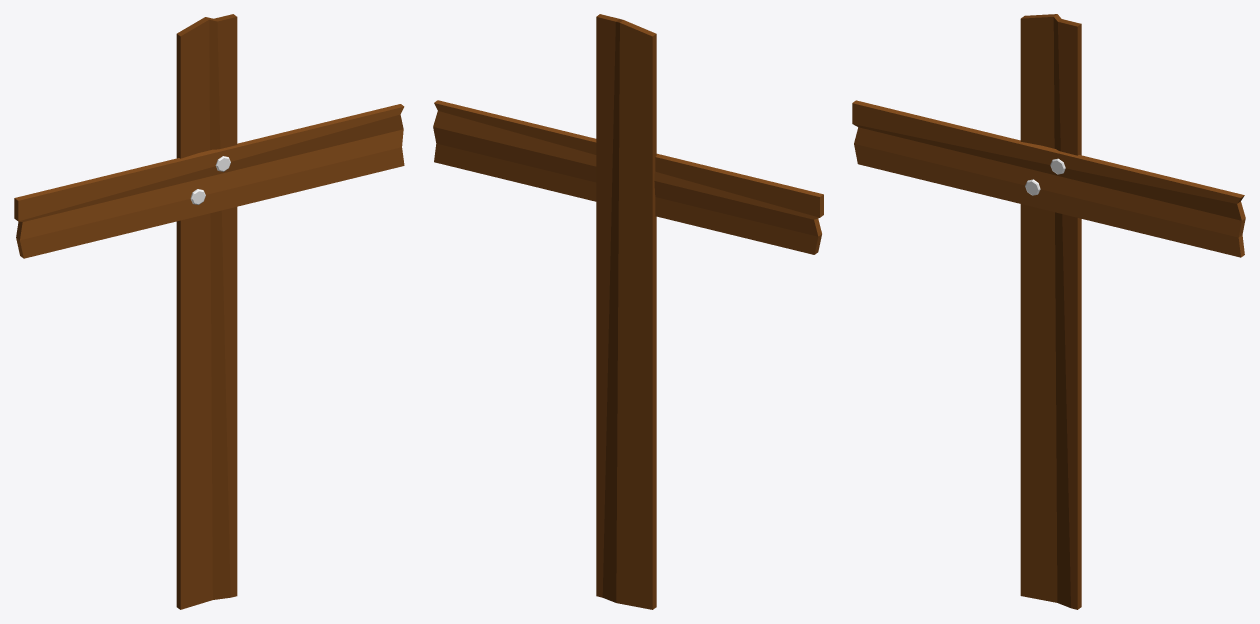
The model's file is WoodenCross.fbx.
3 views of the same model, side by side, from view 1: azimuth 30°, elevation 25°; view 2: azimuth 150°, elevation 25°; view 3: azimuth 330°, elevation 25° (orthographic).
Parts seen in each view (by area): view 1: WoodenCross; view 2: WoodenCross; view 3: WoodenCross.
Part boxes in pixels (box(x1,y1,x2,y2)): WoodenCross: box(14, 14, 404, 609); WoodenCross: box(433, 14, 823, 609); WoodenCross: box(852, 14, 1245, 609).
Size of the model in its own units: 164 by 237 by 7.05.
